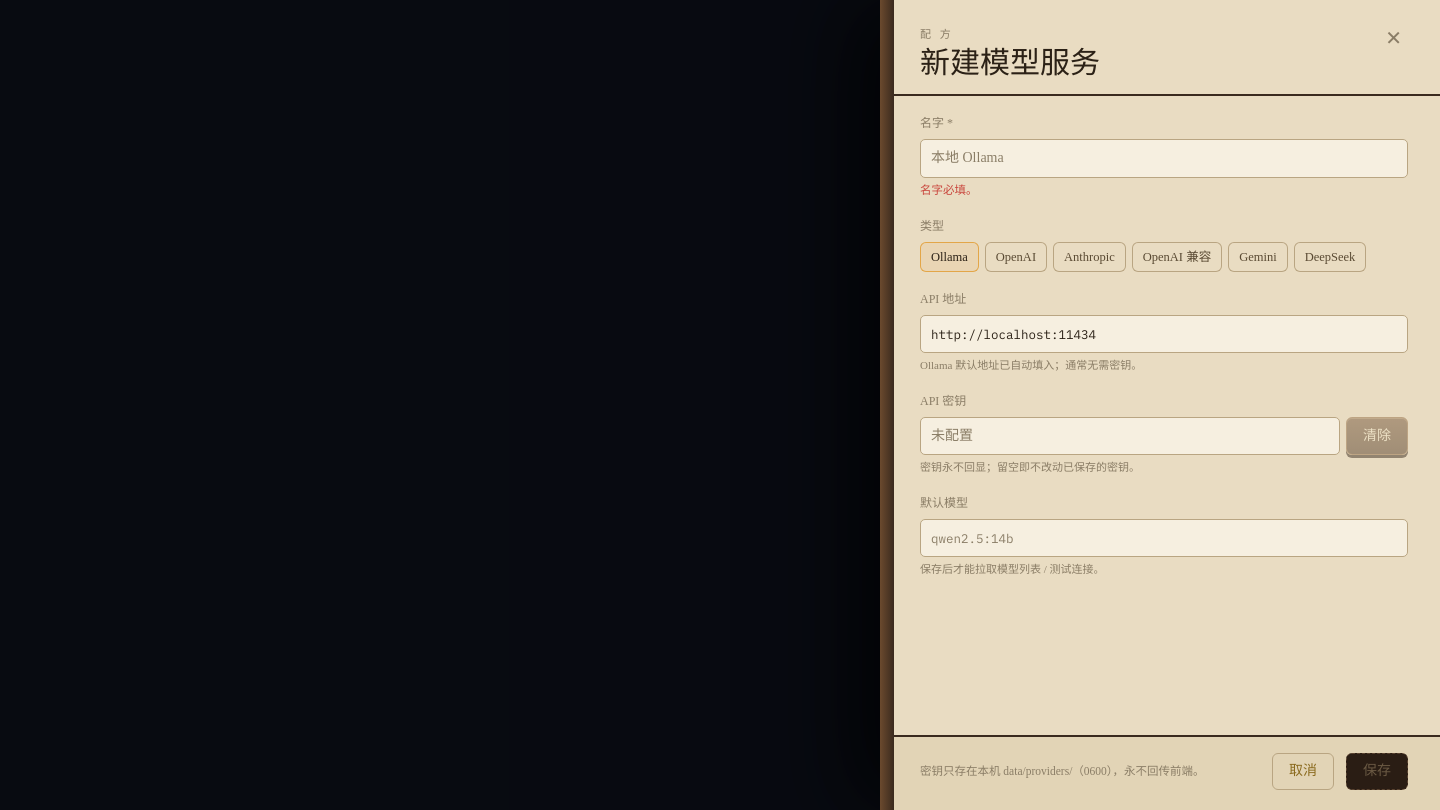
Scenario: ProviderEditor › openai_compatible 缺地址时挡住保存
The image size is (1440, 810).
In the field labelled "名字 *": (1164, 158) [920, 139, 1408, 178], type "自建"
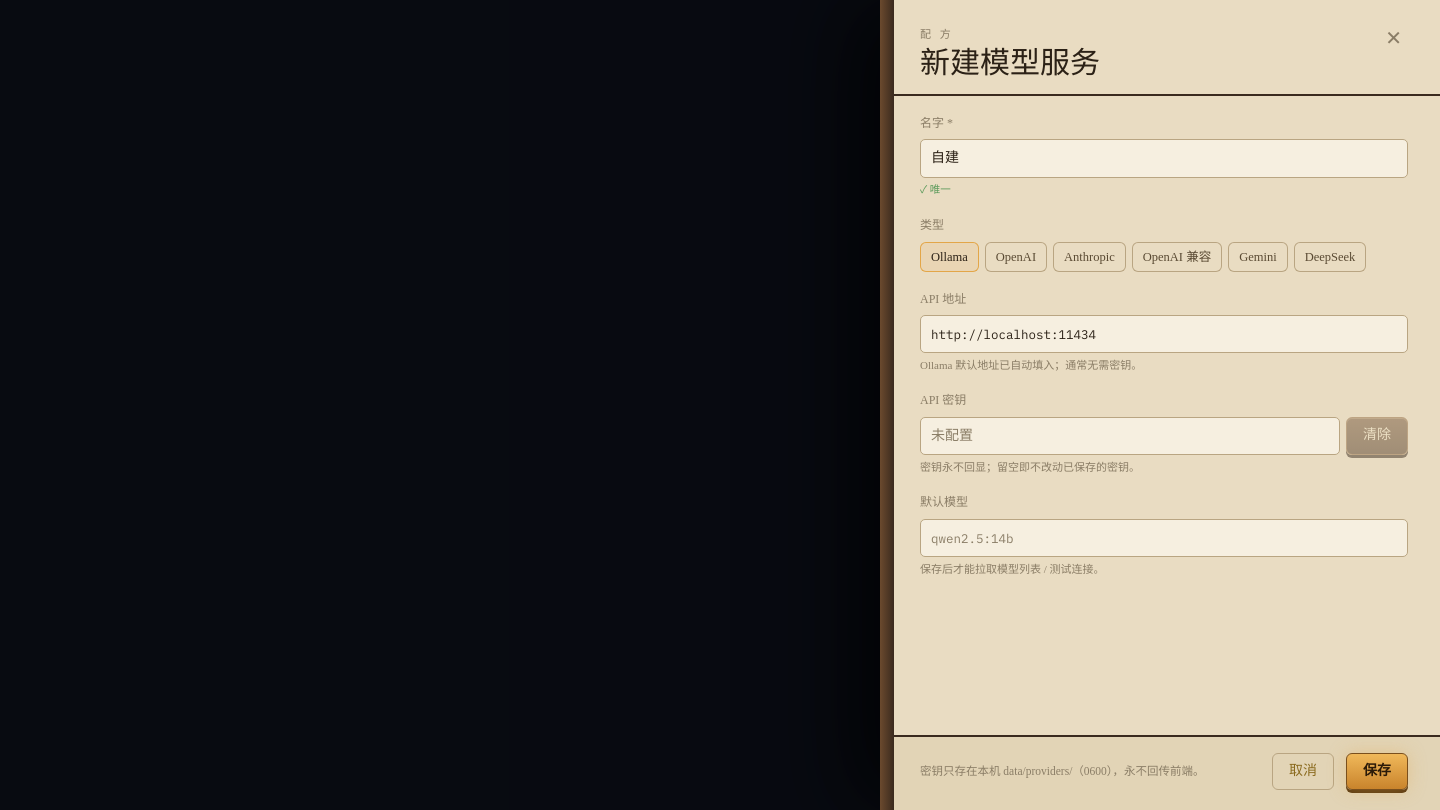
Click the button "OpenAI 兼容": click(1177, 257) [1132, 242, 1222, 272]
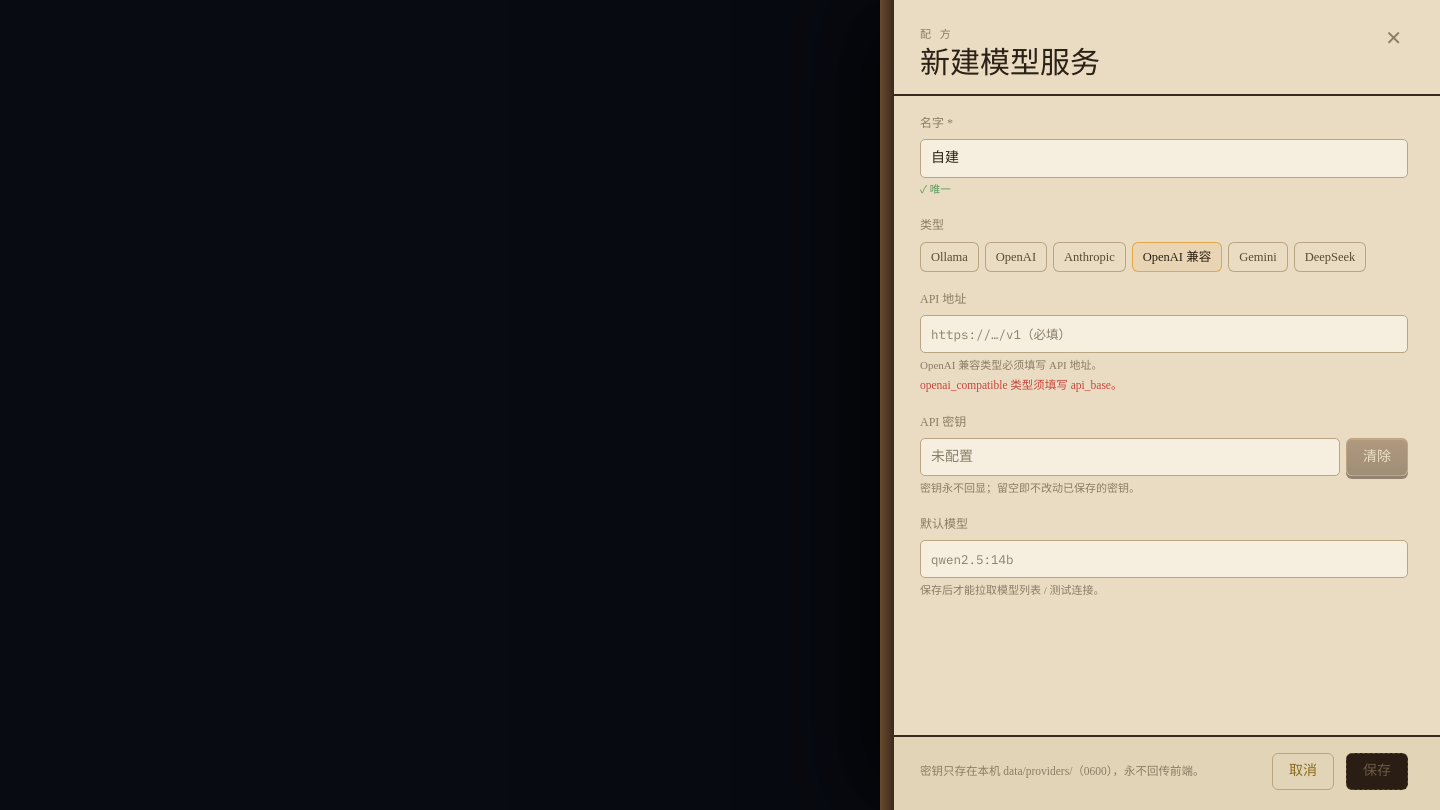
expect the text "openai_compatible 类型须填写 api_base。" is shown: met, box [920, 379, 1122, 391]
expect the button "保存" is disabled: met, box [1346, 753, 1408, 790]
